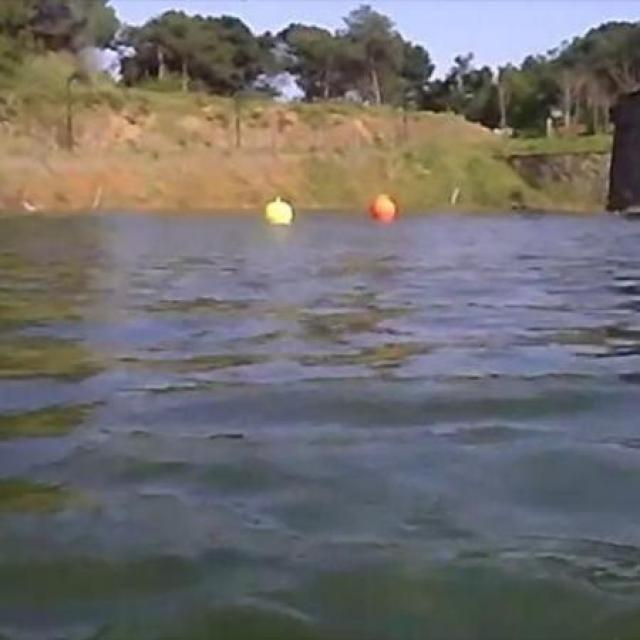buoy: (269, 198, 294, 228), (372, 192, 395, 223)
